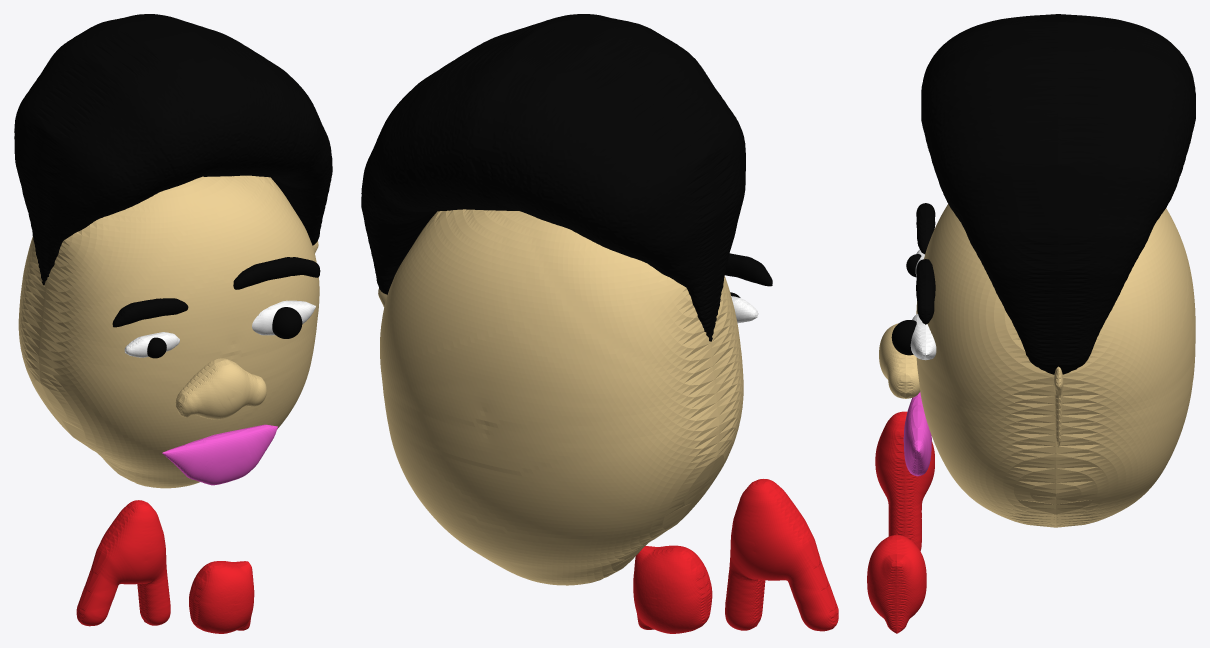
The picture shows the model from 3 angles, left to right: view 1: azimuth 30°, elevation 25°; view 2: azimuth 150°, elevation 25°; view 3: azimuth 270°, elevation 25°; orthographic projection. The views are drawn at different scales.
Size of the model in its own units: 0.2866 by 0.4782 by 0.2392.
